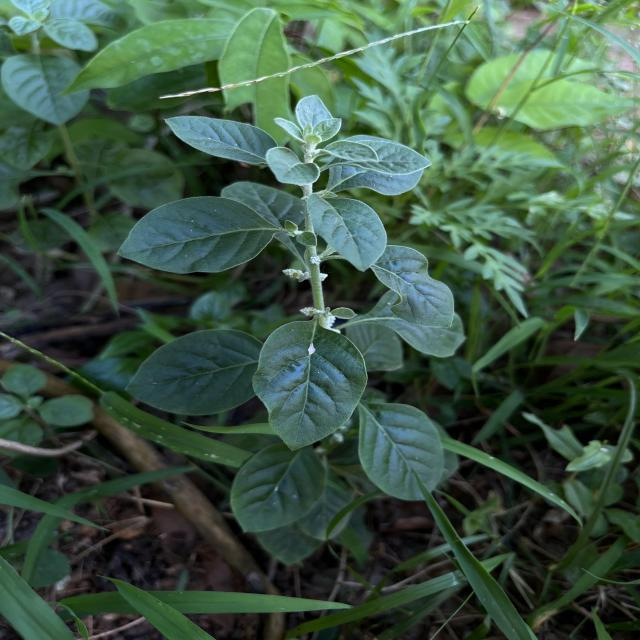Aerva lanata: (249, 319, 370, 454), (113, 194, 284, 276), (122, 326, 264, 418), (371, 243, 456, 329), (304, 191, 390, 274), (160, 113, 280, 166), (262, 144, 322, 188), (316, 138, 381, 165)
